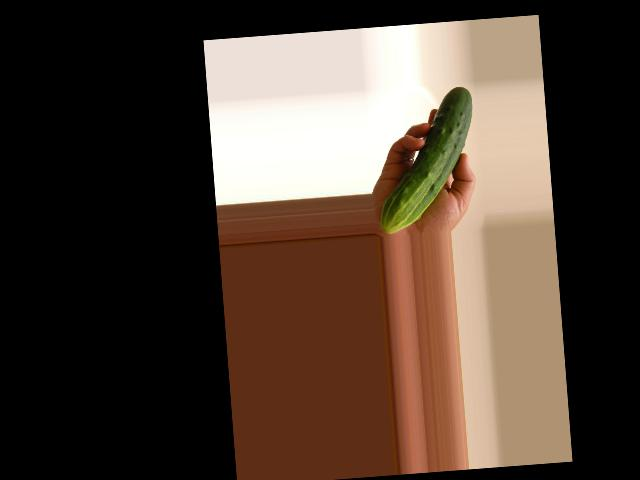cucumber: (370, 85, 480, 233)
